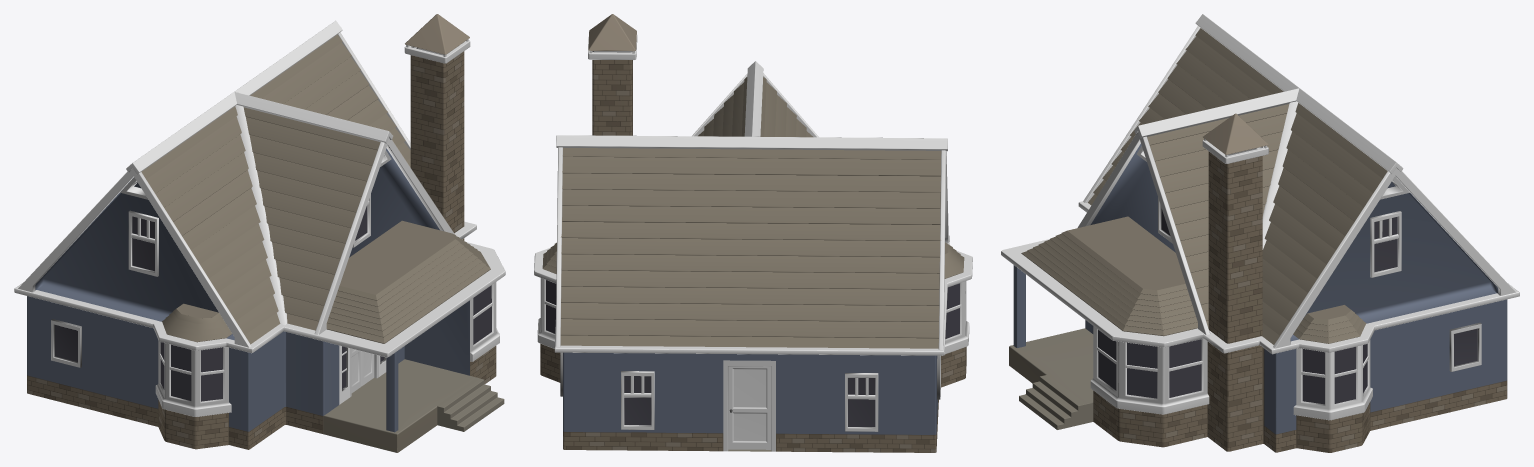
3 views of the same model, side by side, from view 1: azimuth 30°, elevation 25°; view 2: azimuth 150°, elevation 25°; view 3: azimuth 270°, elevation 25° (orthographic). The views are drawn at different scales.
Parts seen in each view (by area): view 1: node_id30; view 2: node_id30; view 3: node_id30.
Part boxes in pixels (x1=…): node_id30: x1=14, y1=14, x2=505, y2=452; node_id30: x1=534, y1=14, x2=972, y2=452; node_id30: x1=1001, y1=14, x2=1519, y2=452.
Bounding box in the file's own units: 0.5547 × 0.4107 × 0.5911.
Materials: 1 (1 with a texture image).
